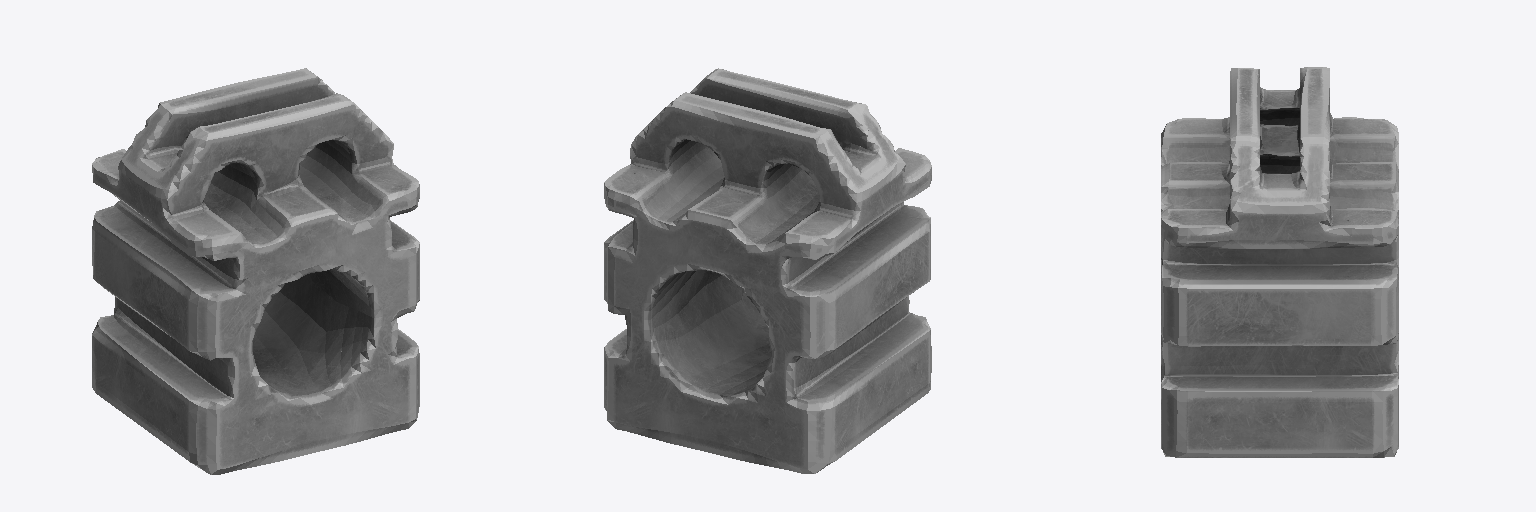
The picture shows the model from 3 angles: view 1: azimuth 30°, elevation 25°; view 2: azimuth 150°, elevation 25°; view 3: azimuth 270°, elevation 25°; orthographic projection.
Visible parts, largest first — view 1: Volume88; view 2: Volume88; view 3: Volume88.
Boxes of the visible parts, box(x1,y1,x2,y2) form: Volume88: box(92, 68, 419, 474); Volume88: box(604, 68, 931, 473); Volume88: box(1161, 67, 1398, 457).
Bounding box in the file's own units: 184 × 237 × 166.
1 materials, 1 textured.